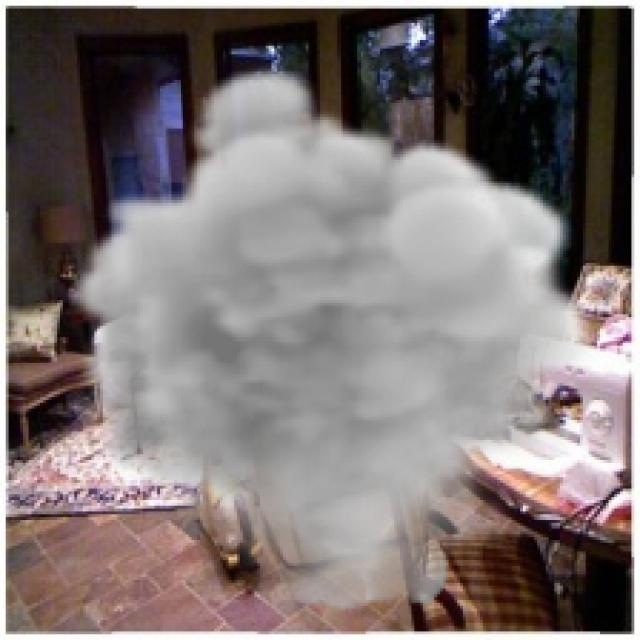smoke: (69, 60, 600, 614)
